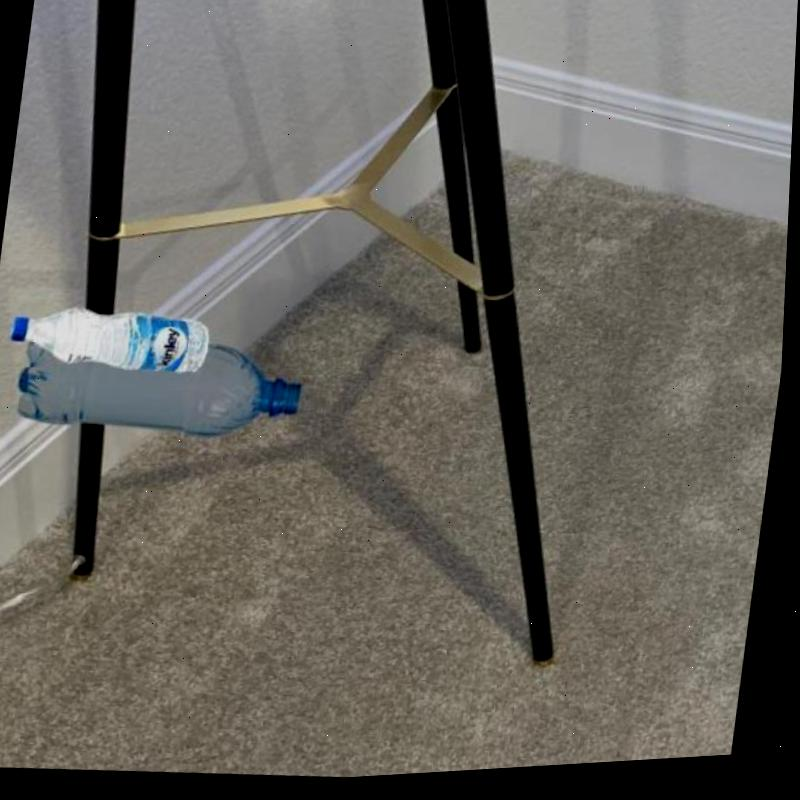botella: (16, 329, 310, 454), (11, 293, 217, 382)
